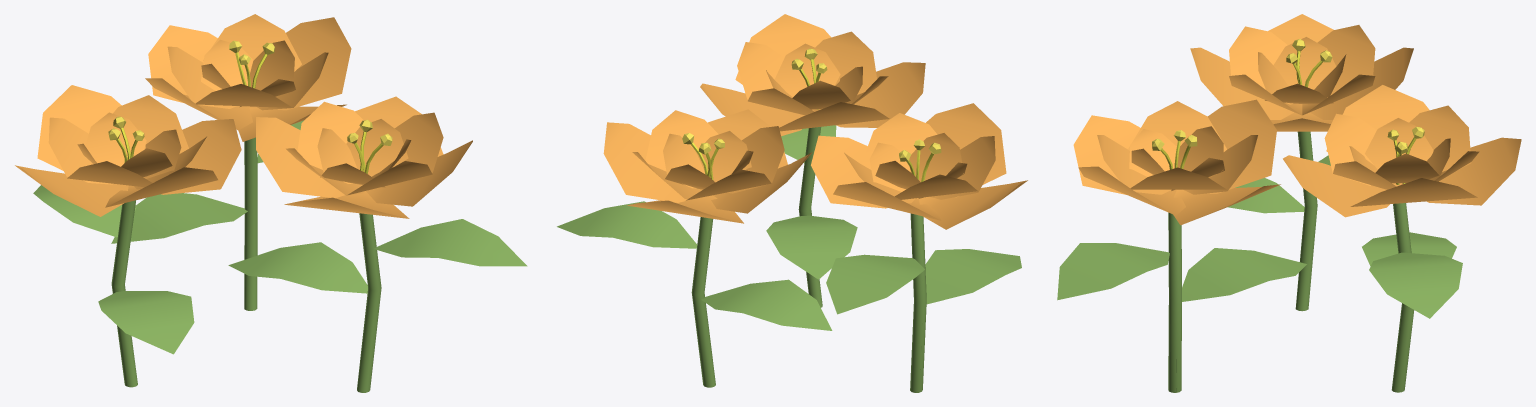
Rendered from flower01_orange.fbx.
3 renders of one model, left to right at view 1: azimuth 30°, elevation 25°; view 2: azimuth 150°, elevation 25°; view 3: azimuth 270°, elevation 25°, orthographic. The views are drawn at different scales.
Parts seen in each view (by area): view 1: flowers01_orange; view 2: flowers01_orange; view 3: flowers01_orange.
Part boxes in pixels (left/top/right/bottom): flowers01_orange: left=15, top=14, right=527, bottom=392; flowers01_orange: left=557, top=14, right=1027, bottom=392; flowers01_orange: left=1057, top=14, right=1521, bottom=392.
Bounding box in the file's own units: 0.6152 × 0.3646 × 0.5906.
1 material, 1 textured.
